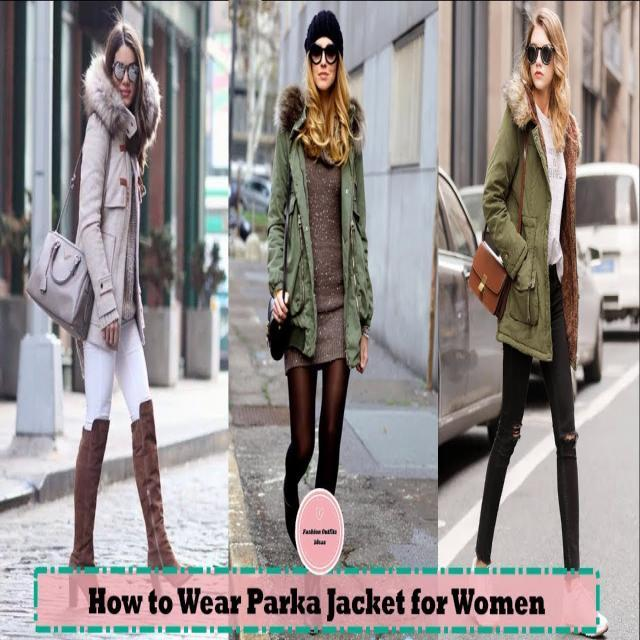coat: (262, 86, 375, 373), (479, 69, 585, 368), (72, 51, 162, 347)
dress: (285, 136, 351, 371)
short sleeve shirt: (523, 104, 578, 273)
trousers: (474, 260, 581, 571), (77, 314, 156, 436)
